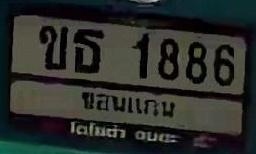number: (35, 17, 239, 89)
province: (77, 87, 178, 123)
